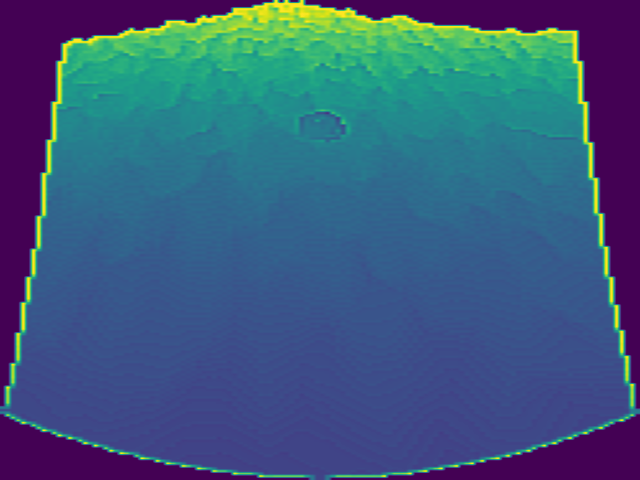car_0198: (295, 110, 350, 145)
